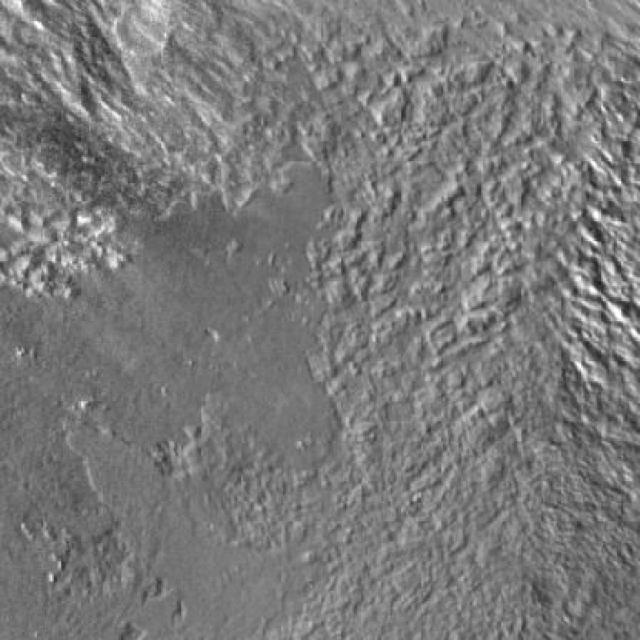crater: (133, 0, 189, 49)
